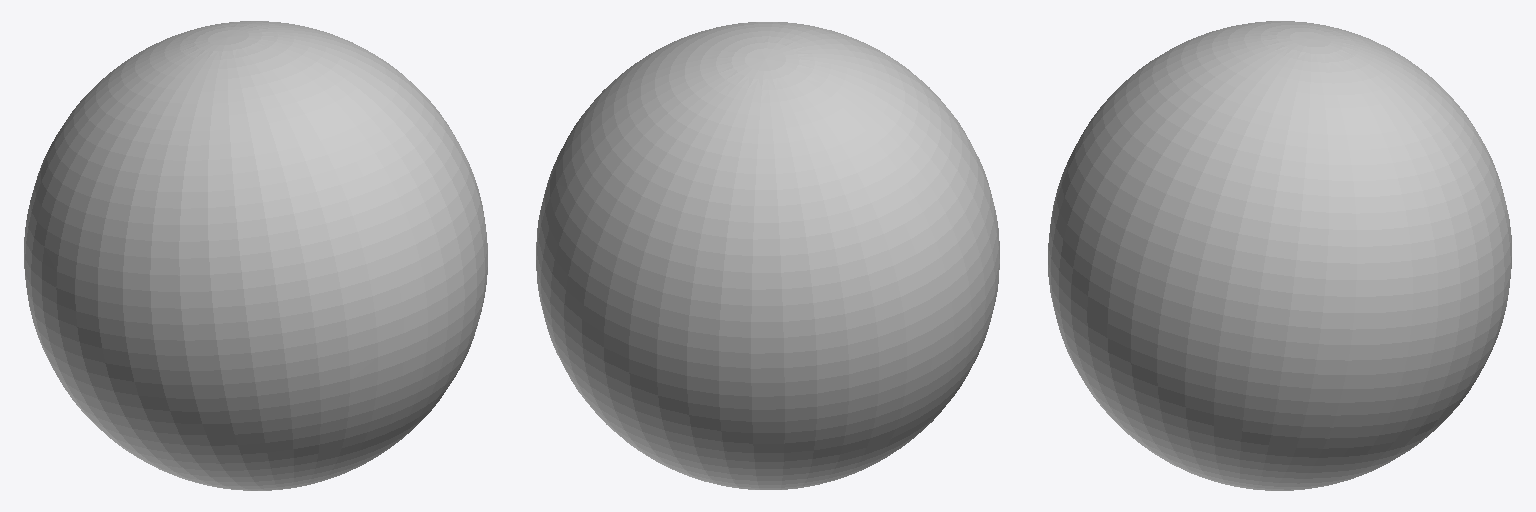
The model's file is moon.obj.
3 renders of one model, left to right at view 1: azimuth 30°, elevation 25°; view 2: azimuth 150°, elevation 25°; view 3: azimuth 270°, elevation 25°, orthographic.
Visible parts, largest first — view 1: Moon; view 2: Moon; view 3: Moon.
Boxes of the visible parts, box(x1,y1,x2,y2) form: Moon: box(24, 21, 487, 490); Moon: box(536, 22, 999, 489); Moon: box(1048, 21, 1511, 490).
Size of the model in its own units: 8.15 by 8.26 by 8.15.